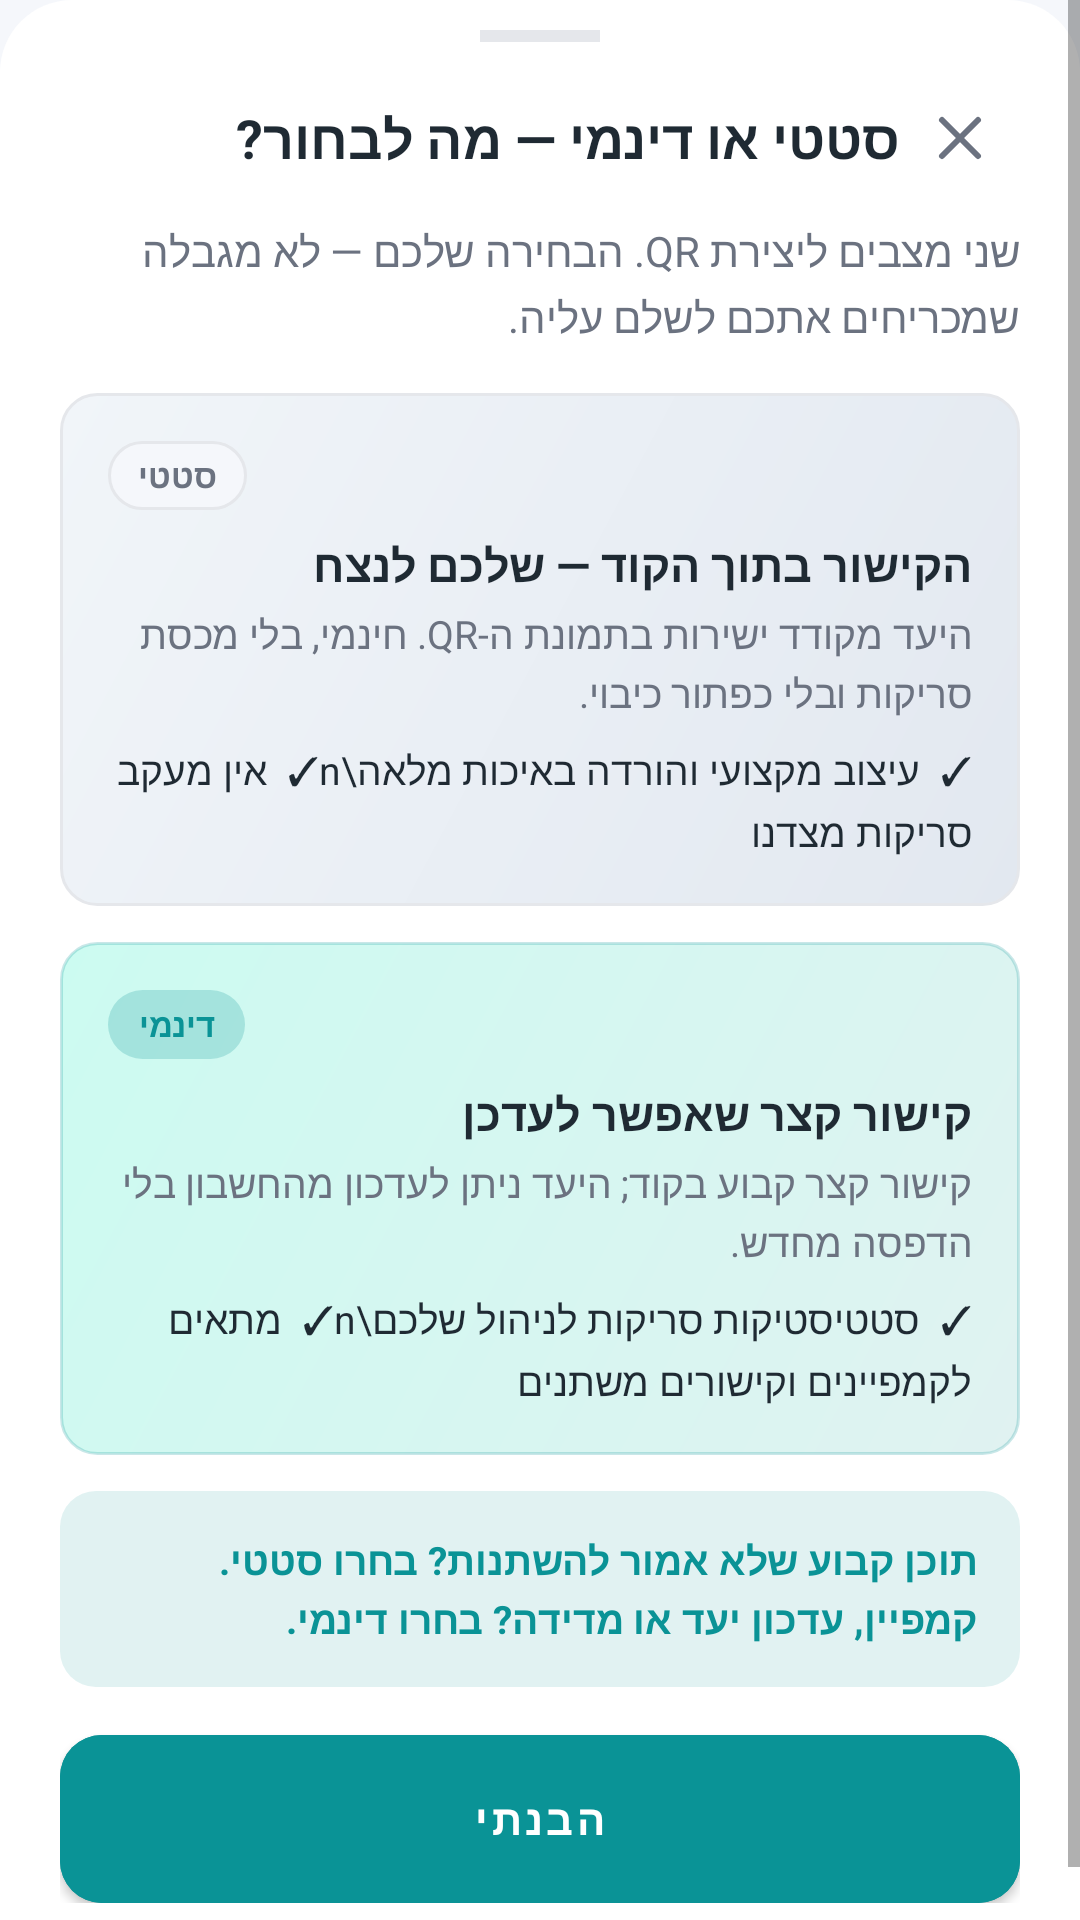

Named icons in this screenshot (1080w x 1920h) and their bounding boxes, [x1=x1, y1=y1, x2=x2, y2=y2]:
סגור: [x1=939, y1=117, x2=981, y2=159]
